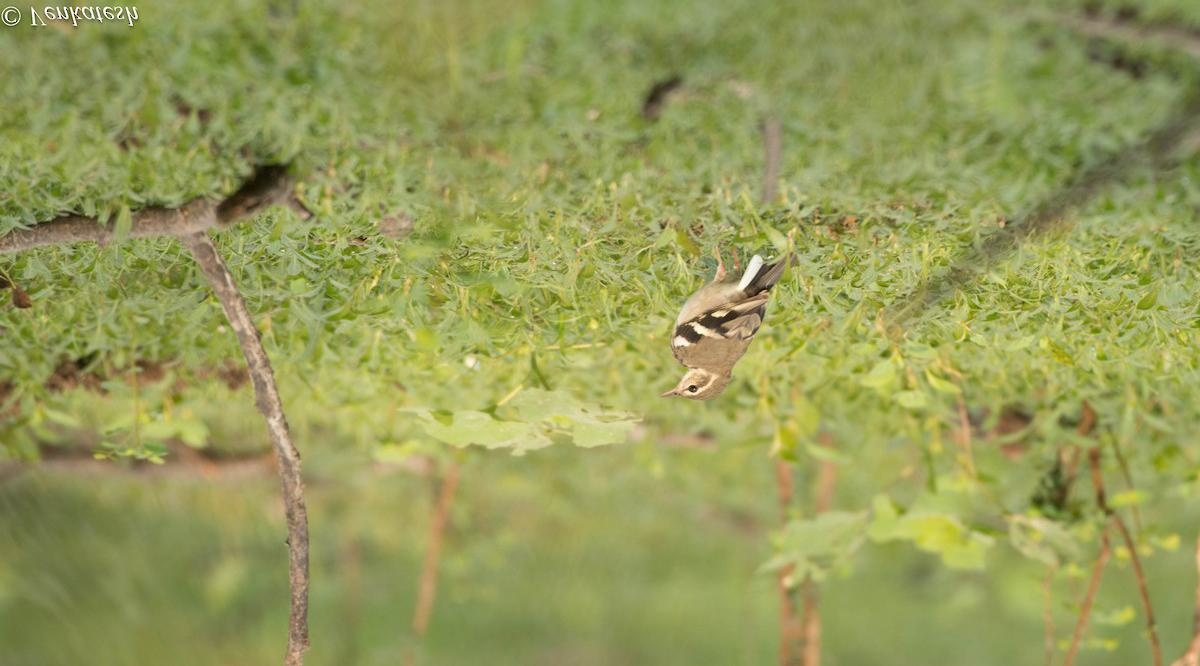wagtail: (660, 220, 796, 413)
